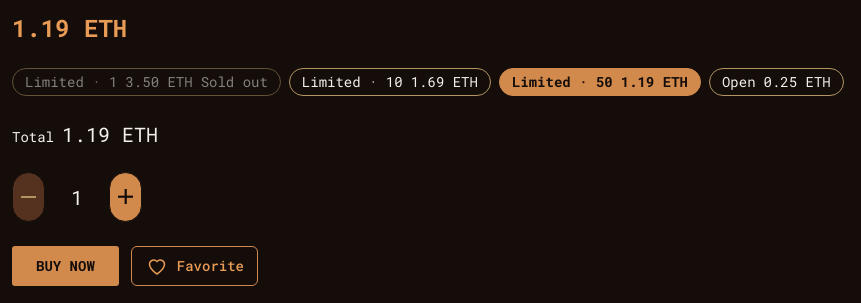
Scenario: NftPurchasePanel (en) › stepper: minimo 1 (diminuir desabilitado) e aumentar incrementa
The width and height of the screenshot is (861, 303).
Check: the button named "Decrease quantity" is disabled, box [12, 172, 45, 222]
Click the button named "Increase quantity". click: (126,197)
box: [109, 172, 142, 222]
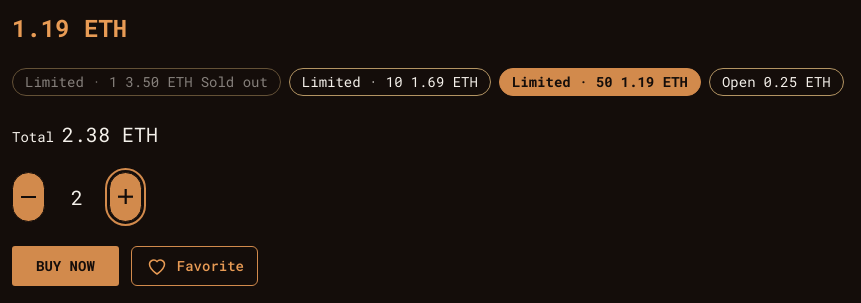
Check: the number field named "Quantity" holds "2", box [57, 183, 97, 211]
Check: the button named "Decrease quantity" is enabled, box [12, 172, 45, 222]
